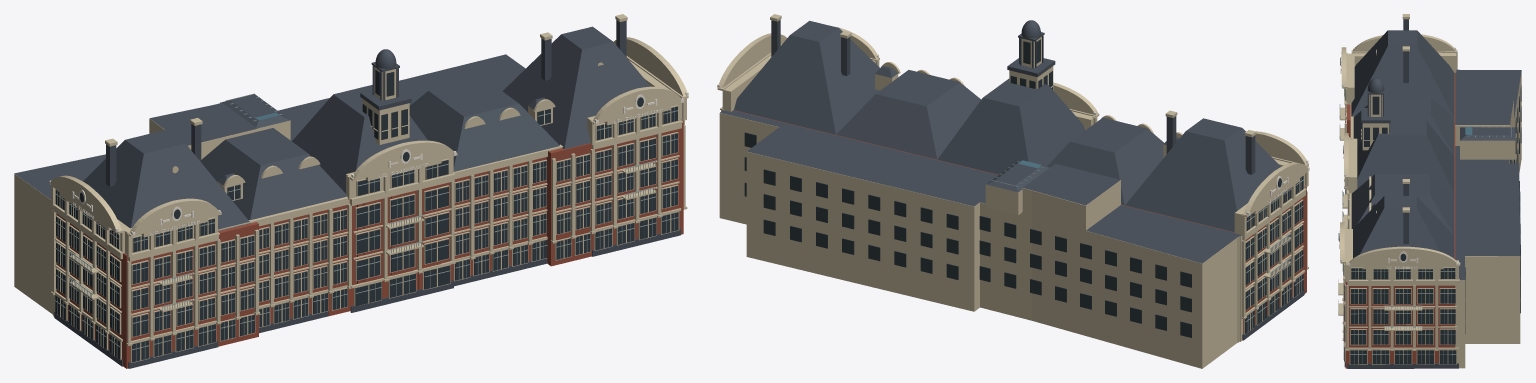
File: de-bijenkorf.glb
3 views of the same model, side by side, from view 1: azimuth 30°, elevation 25°; view 2: azimuth 150°, elevation 25°; view 3: azimuth 270°, elevation 25° (orthographic). The views are drawn at different scales.
Visible parts, largest first — view 1: de-bijenkorf; view 2: de-bijenkorf; view 3: de-bijenkorf.
Boxes of the visible parts, box(x1,y1,x2,y2) form: de-bijenkorf: box(14, 14, 688, 368); de-bijenkorf: box(717, 14, 1309, 368); de-bijenkorf: box(1338, 14, 1521, 368).
Bounding box in the file's own units: 115 × 45.43 × 40.96.
